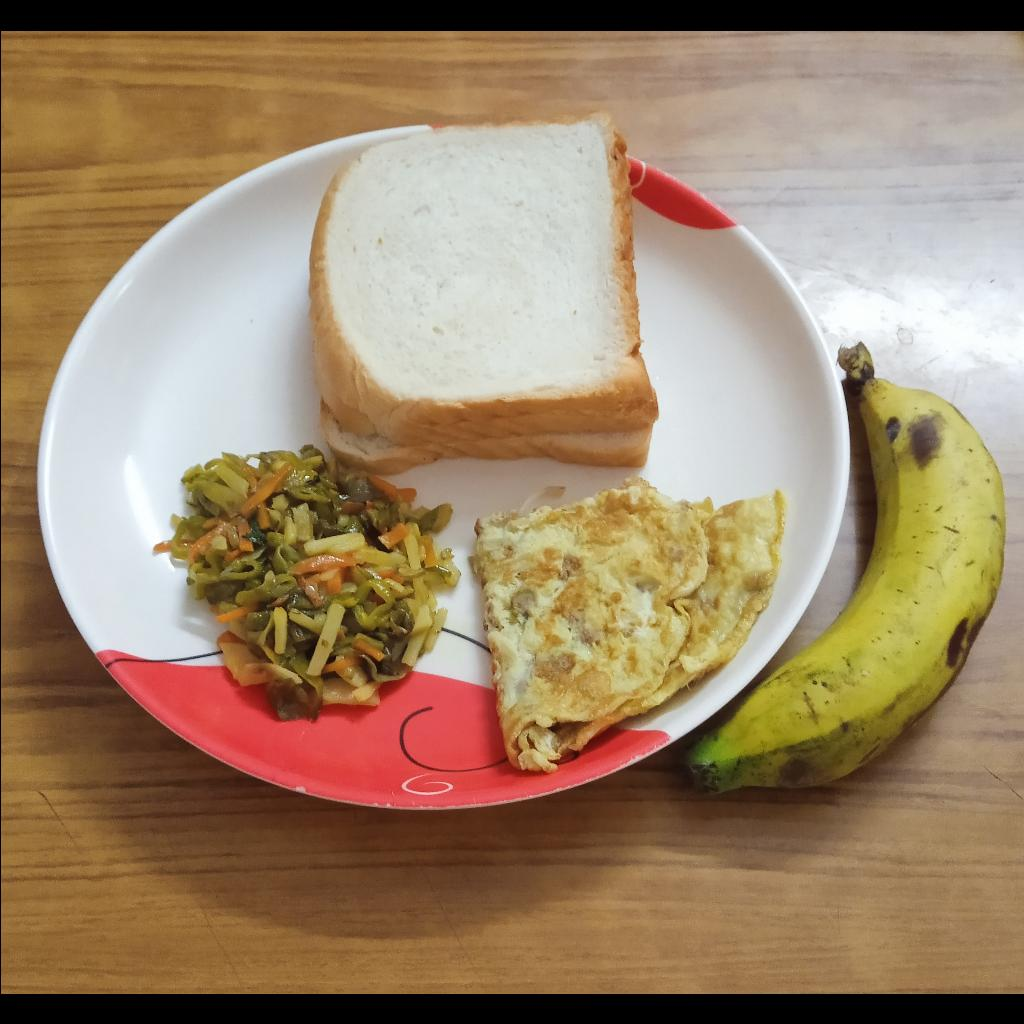banana: (691, 376, 1006, 799)
bread: (307, 109, 659, 470)
egg-poached: (475, 475, 785, 769)
vegetable: (167, 443, 460, 722)
